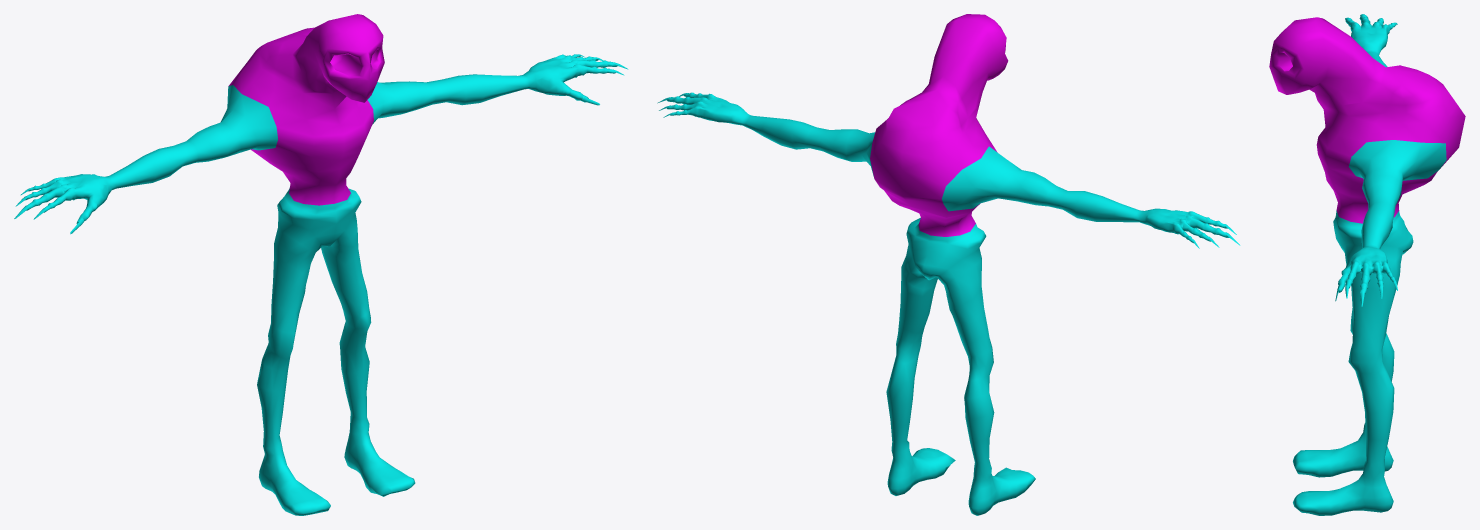
File: PABLO_LOW.fbx
The picture shows the model from 3 angles, left to right: view 1: azimuth 30°, elevation 25°; view 2: azimuth 150°, elevation 25°; view 3: azimuth 270°, elevation 25°; orthographic projection. The views are drawn at different scales.
Visible parts, largest first — view 1: PABLOLOW2; view 2: PABLOLOW2; view 3: PABLOLOW2.
Boxes of the visible parts, x1,y1,x2,y2 form: PABLOLOW2: (14, 14, 628, 515); PABLOLOW2: (657, 14, 1240, 515); PABLOLOW2: (1269, 14, 1465, 515).
Bounding box in the file's own units: 4715 × 3570 × 1351.
